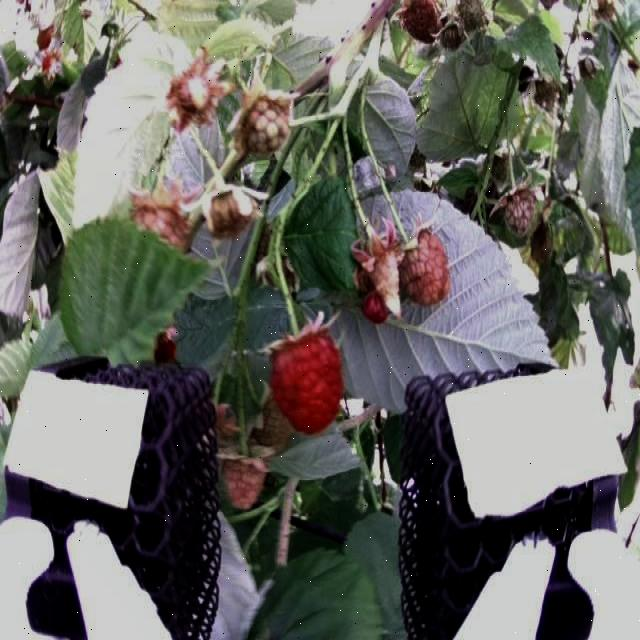Riped berries: (266, 326, 343, 430)
